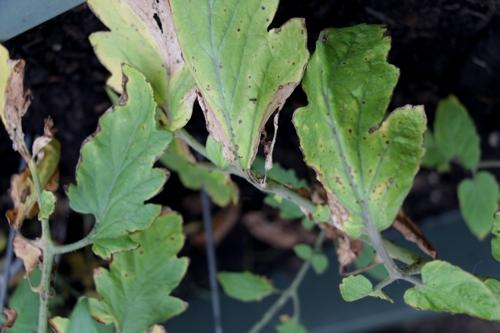Tomato Early blight leaf: (292, 22, 427, 237), (165, 0, 312, 176), (67, 60, 177, 265)
